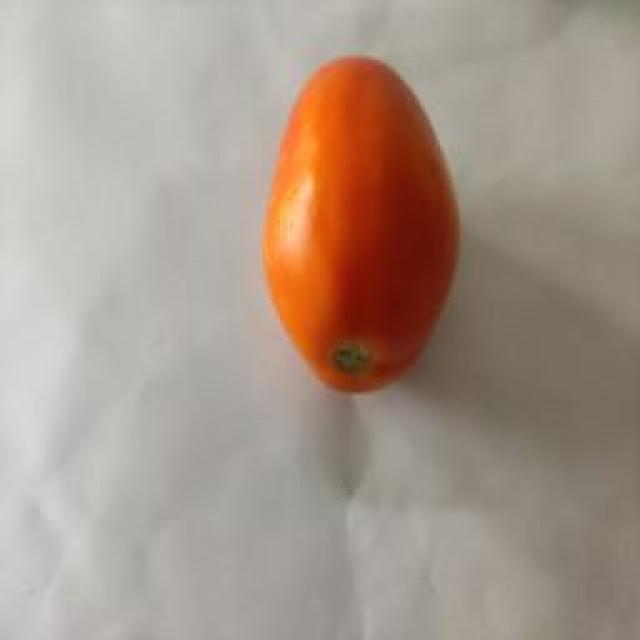tomato: (262, 58, 458, 392)
